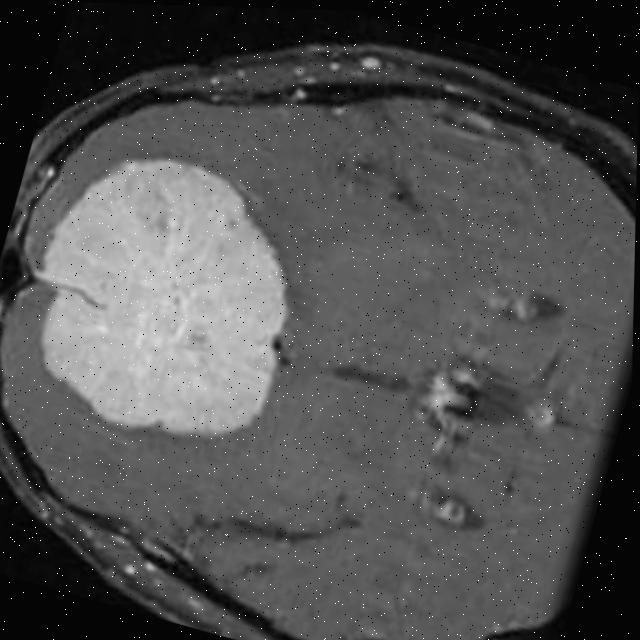Meningioma: (5, 131, 325, 465)
